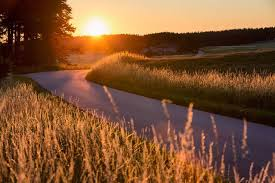field: (6, 55, 275, 180), (7, 92, 208, 183), (102, 51, 275, 107)
sky: (74, 2, 275, 32)
tree: (1, 1, 66, 70)
